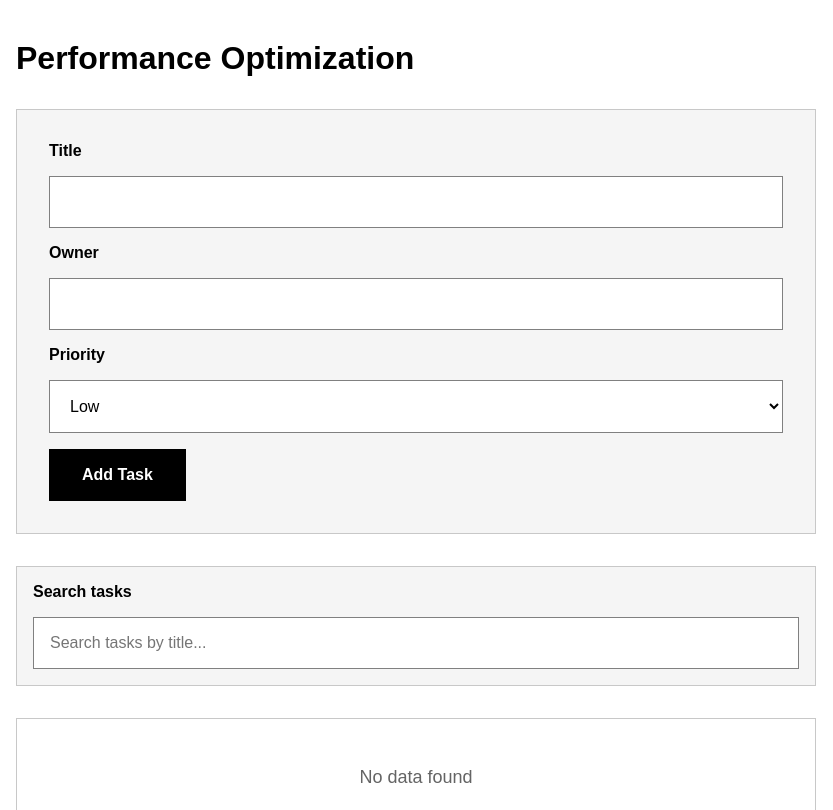
it: TaskTracker - Unhappy Path › prevents submission, marks Owner invalid with aria-invalid and red border, and shows error message when Owner is empty
Expected: the heading "Performance Optimization" is shown, [16,40,414,76]
// Fill Title and leave Owner empty
Type "Reduce DOM Size" into the field labelled "Title" at point(416, 202), box [49,176,783,228]
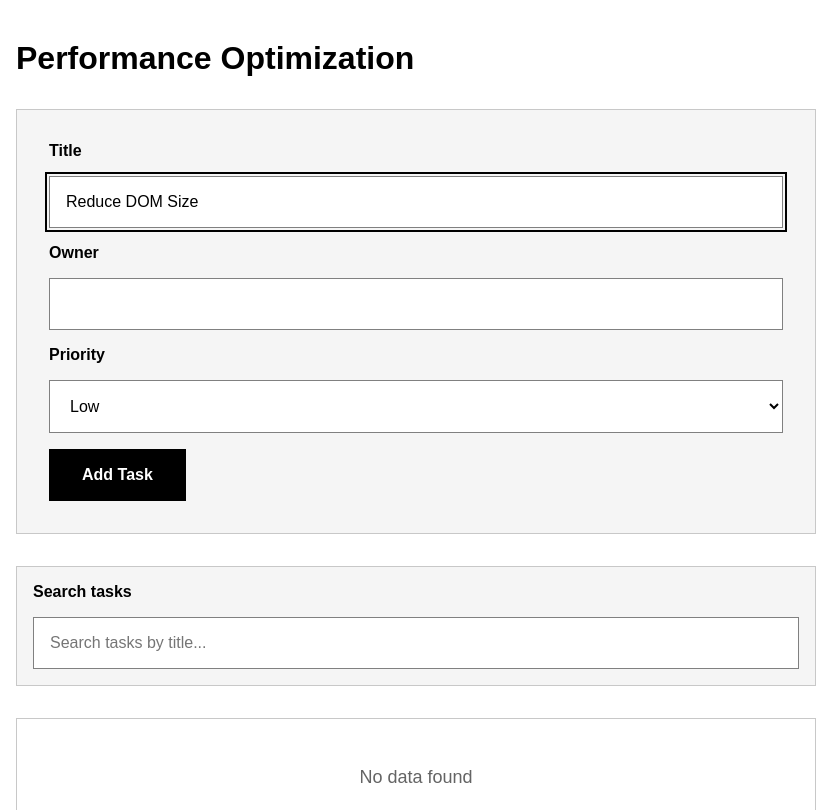
Click the button "Add Task" at point(117, 475), box [49,449,186,501]
(page scrolled)
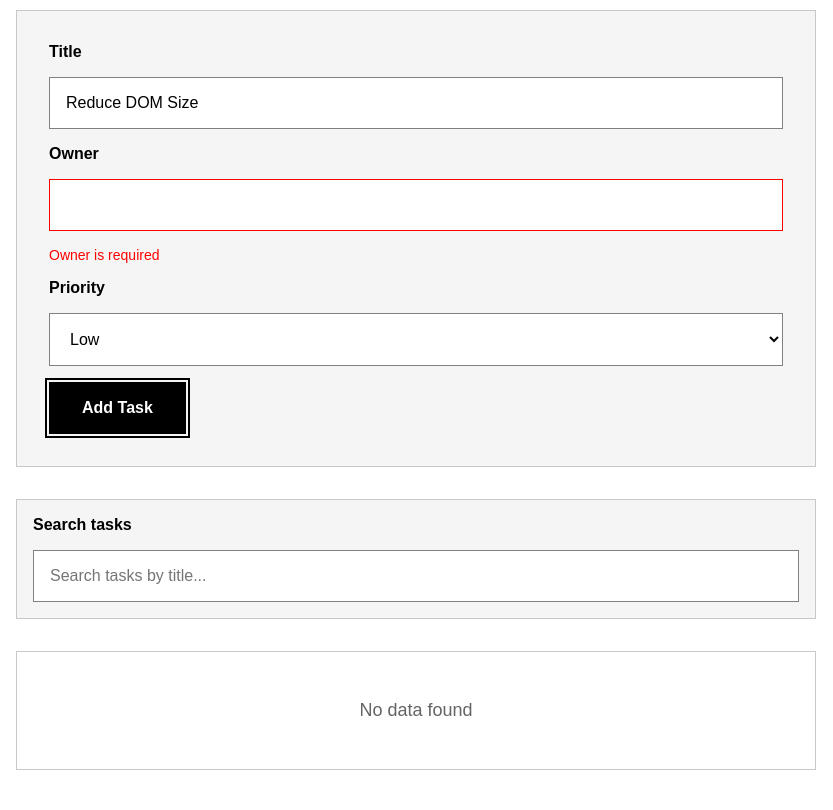
Expected: the text "No data found" is shown, [360,700,473,720]
Now the text "Owner is required" is shown, box [49,247,160,263]
